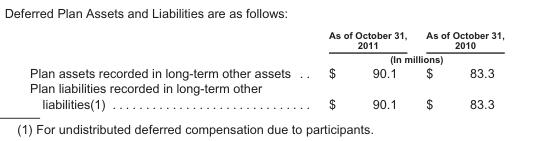table: (28, 29, 503, 110)
table column: (28, 29, 309, 110), (309, 29, 415, 110), (415, 29, 503, 110)
table column header: (28, 29, 503, 64)
table row: (28, 80, 503, 110), (28, 29, 503, 51), (28, 64, 503, 80), (28, 51, 503, 64)
table spanning cell: (309, 51, 503, 64)
